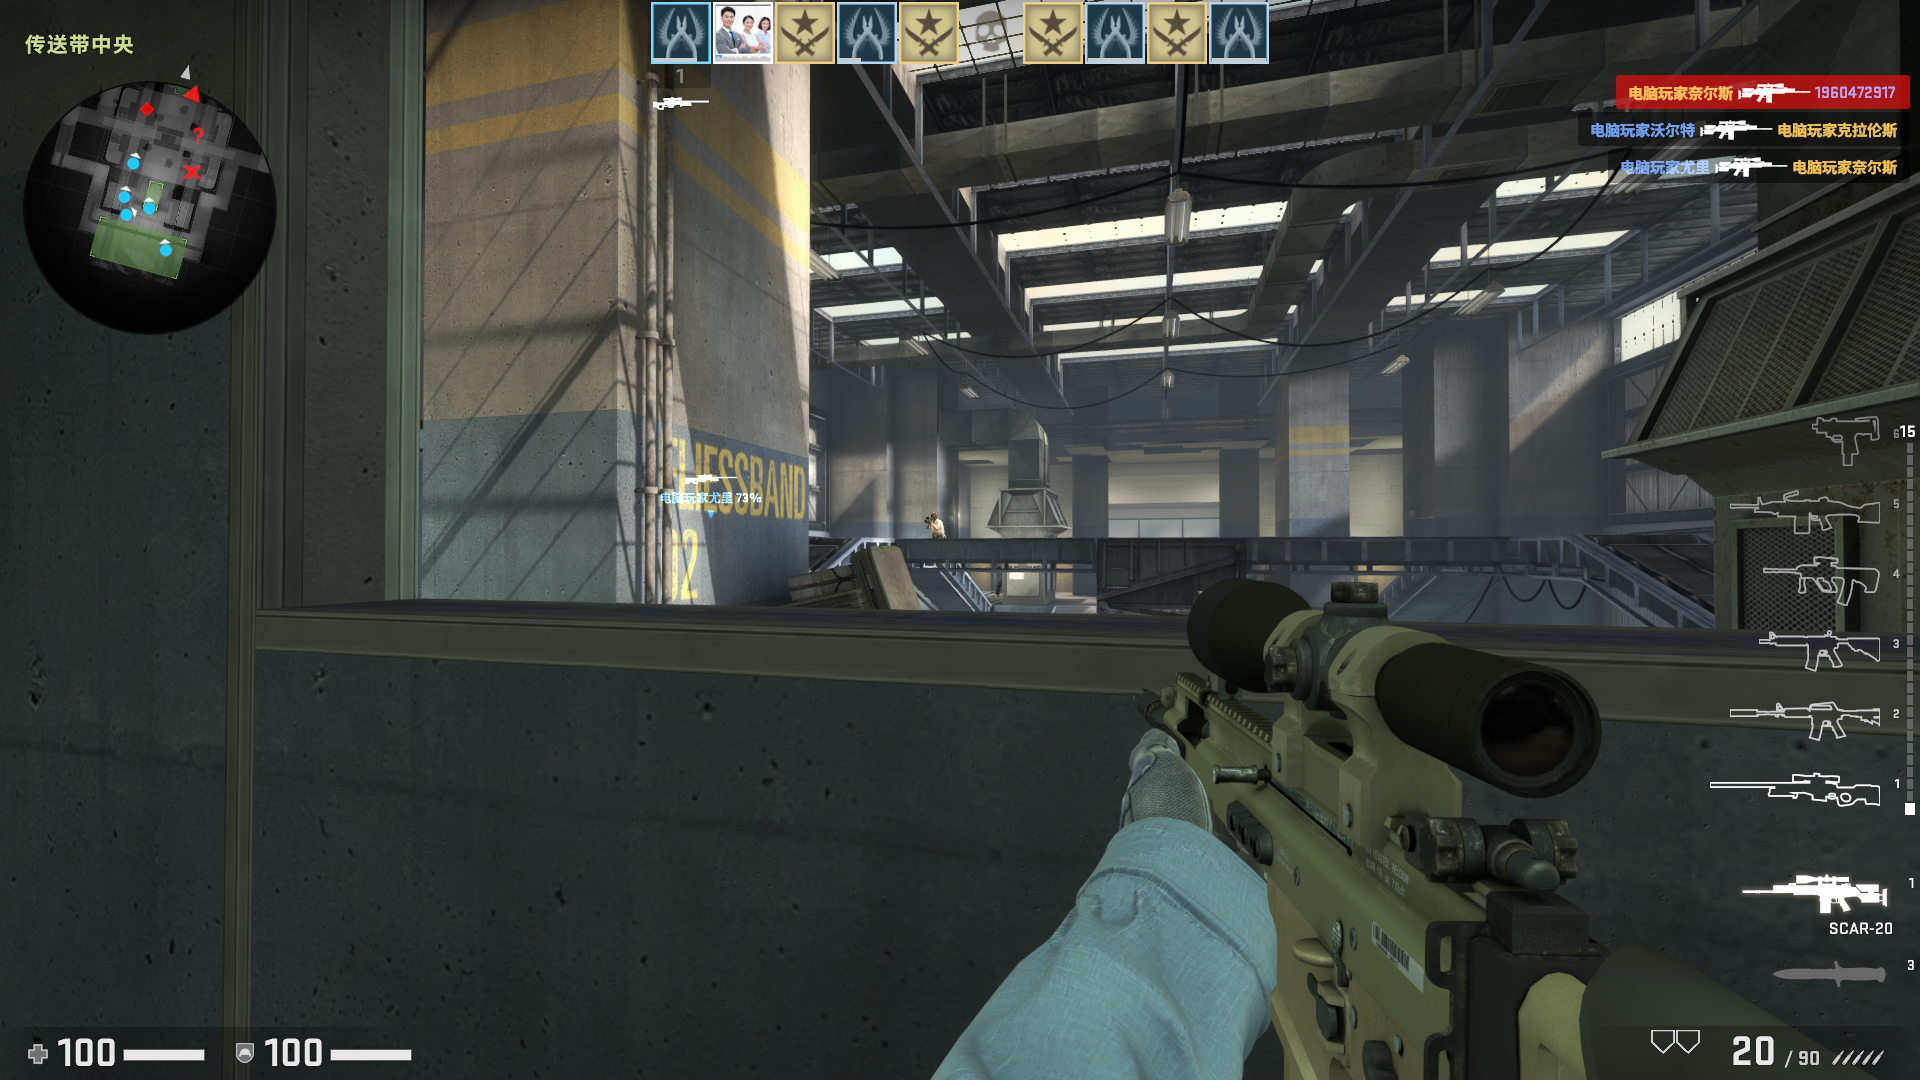person: (925, 513, 945, 541)
